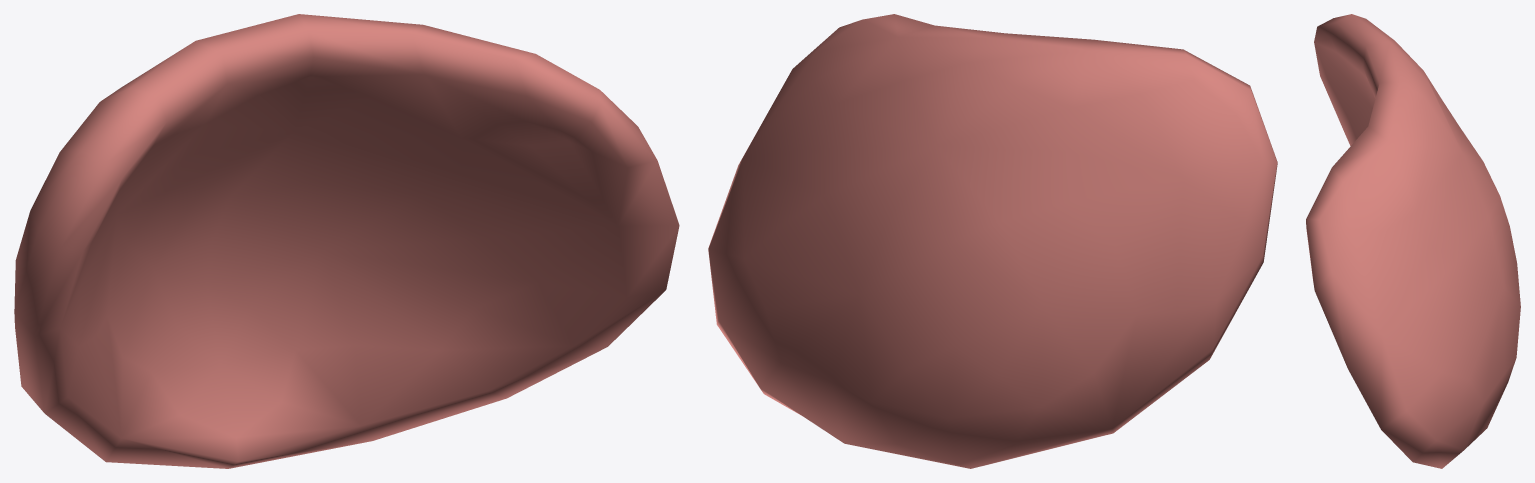
3 renders of one model, left to right at view 1: azimuth 30°, elevation 25°; view 2: azimuth 150°, elevation 25°; view 3: azimuth 270°, elevation 25°, orthographic. The views are drawn at different scales.
Parts seen in each view (by area): view 1: ZA_3533412525cb5526; view 2: ZA_3533412525cb5526; view 3: ZA_3533412525cb5526.
Part boxes in pixels (x1,y1,x2,y2): ZA_3533412525cb5526: [14, 14, 679, 468]; ZA_3533412525cb5526: [708, 14, 1277, 468]; ZA_3533412525cb5526: [1306, 14, 1520, 468].
Size of the model in its own units: 0.00502 by 0.00359 by 0.00213.
